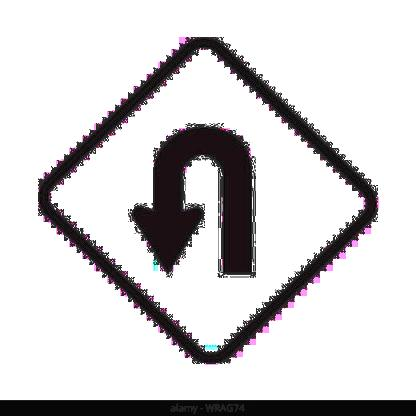U-turn: (39, 30, 375, 363)
